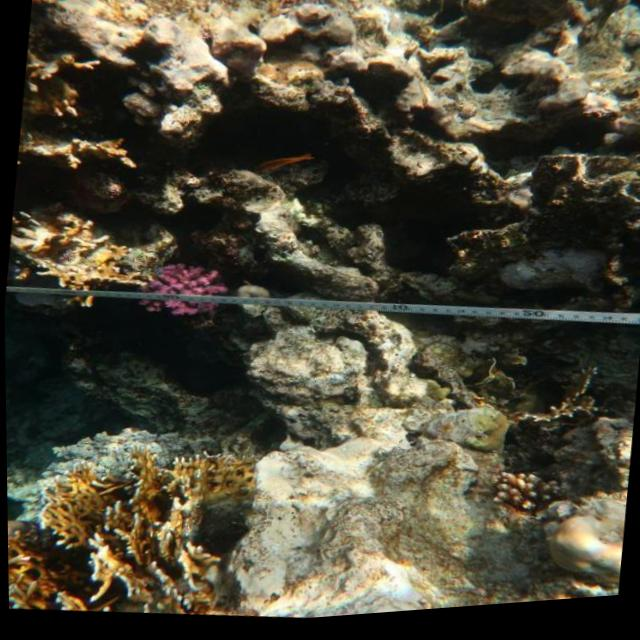Healthy Coral: (5, 423, 258, 633), (121, 253, 229, 327)
